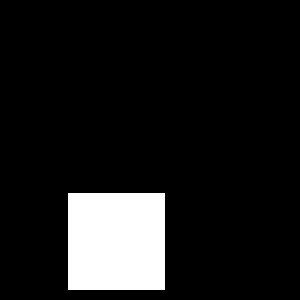circle: (68, 193, 165, 290)
